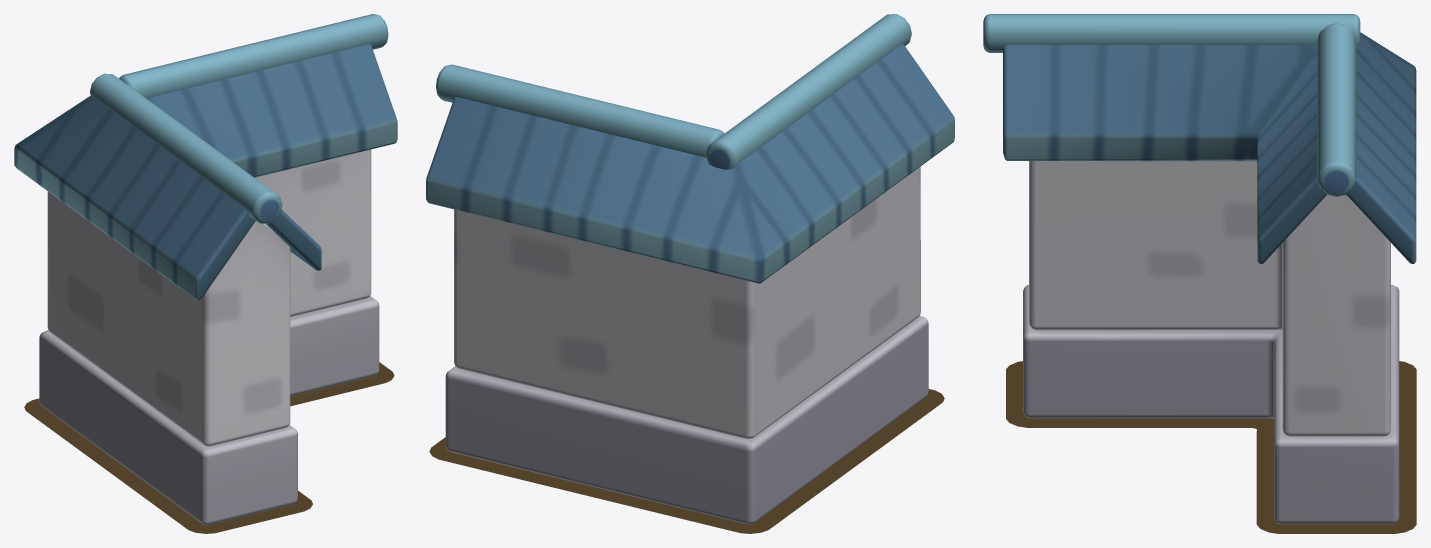
The model's file is JapanWall01B.fbx.
3 views of the same model, side by side, from view 1: azimuth 30°, elevation 25°; view 2: azimuth 150°, elevation 25°; view 3: azimuth 270°, elevation 25° (orthographic). The views are drawn at different scales.
Visible parts, largest first — view 1: polySurface4, polySurface5, polySurface1; view 2: polySurface4, polySurface5, polySurface1; view 3: polySurface4, polySurface5, polySurface1.
Part boxes in pixels (left/top/right/bottom): polySurface4: left=39, top=149, right=379, bottom=525; polySurface5: left=14, top=14, right=397, bottom=300; polySurface1: left=24, top=362, right=394, bottom=533; polySurface4: left=445, top=166, right=928, bottom=524; polySurface5: left=426, top=14, right=954, bottom=283; polySurface1: left=429, top=389, right=944, bottom=533; polySurface4: left=1023, top=161, right=1399, bottom=524; polySurface5: left=983, top=14, right=1416, bottom=264; polySurface1: left=1006, top=361, right=1416, bottom=533.
Size of the model in its own units: 345 by 333 by 345.
